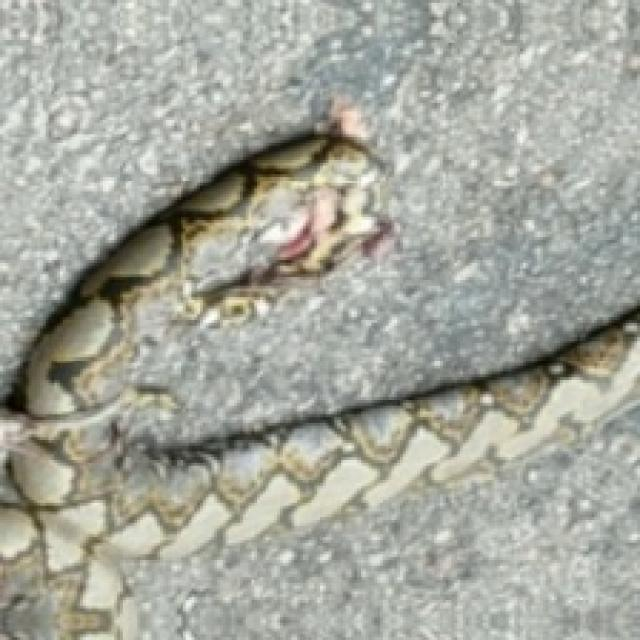reticulated python: (0, 131, 637, 637)
